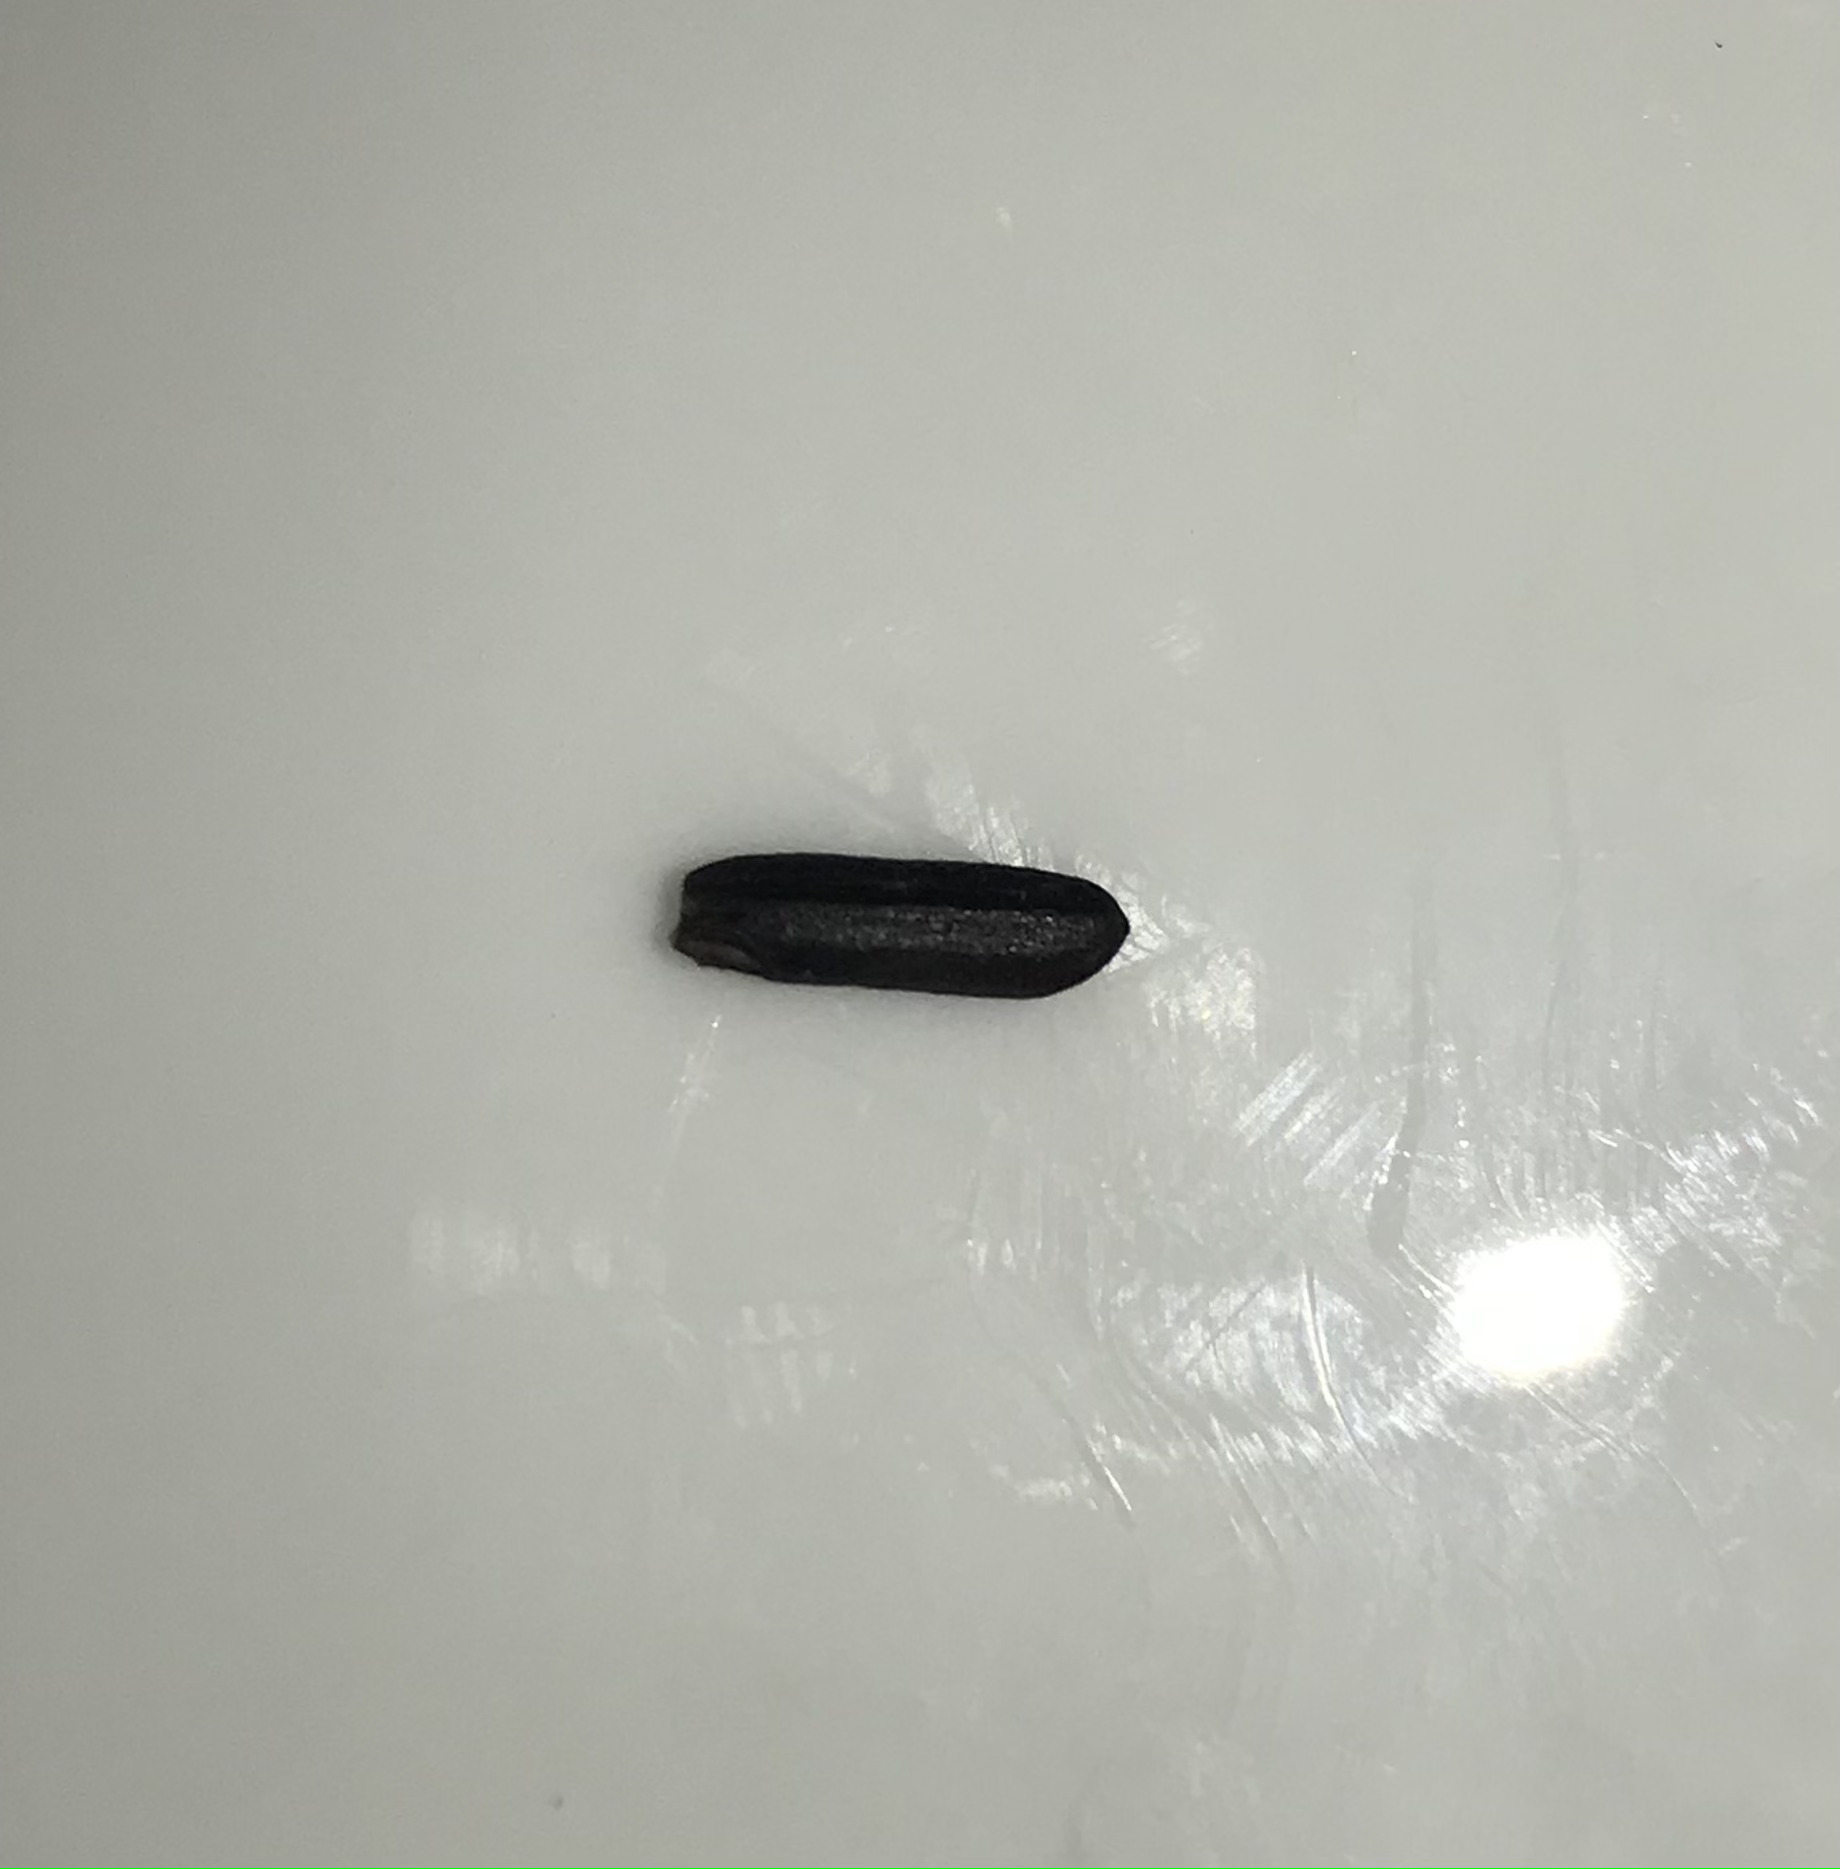Gao lut: (679, 834, 1136, 1011)
